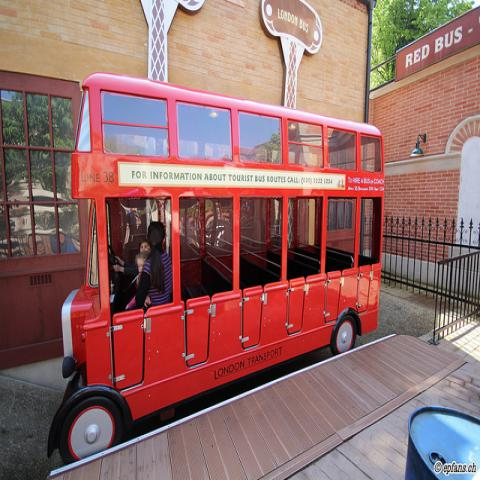bus: (49, 75, 384, 467)
